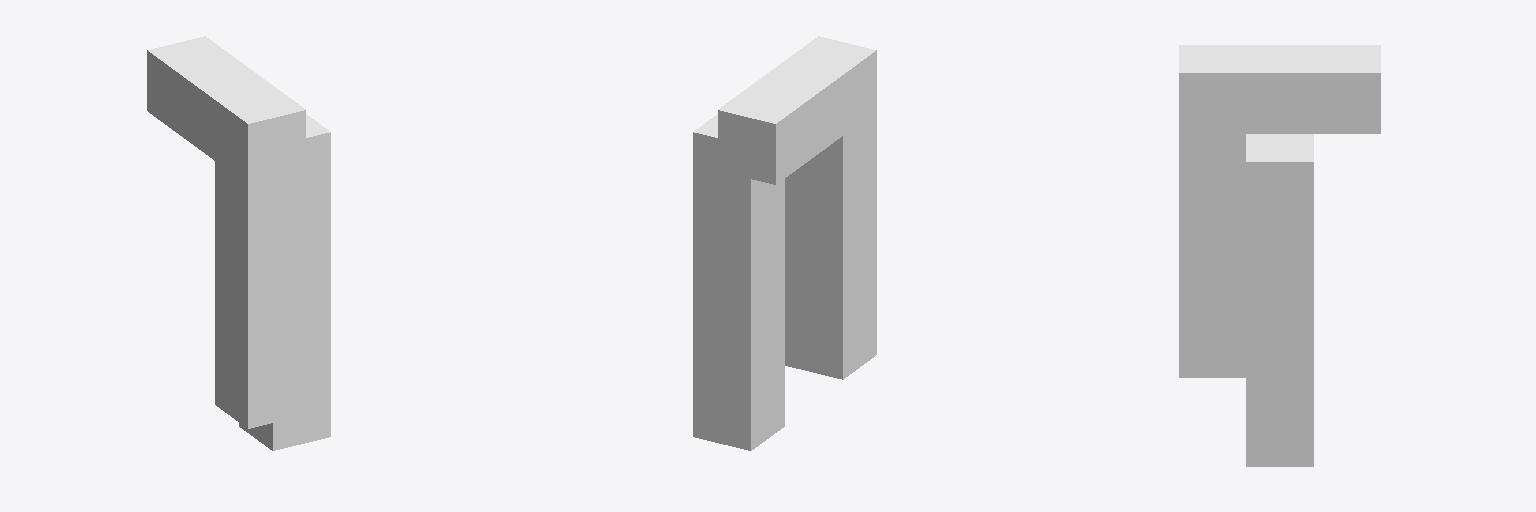
The model's file is YellowHouseParts-71.obj.
3 views of the same model, side by side, from view 1: azimuth 30°, elevation 25°; view 2: azimuth 150°, elevation 25°; view 3: azimuth 270°, elevation 25° (orthographic).
Visible parts, largest first — view 1: object 1; view 2: object 1; view 3: object 1.
Part boxes in pixels (bbox=[...]): object 1: bbox=[147, 36, 330, 450]; object 1: bbox=[693, 36, 876, 450]; object 1: bbox=[1179, 45, 1380, 466].
Bounding box in the file's own units: 0.2 × 0.6 × 0.3.